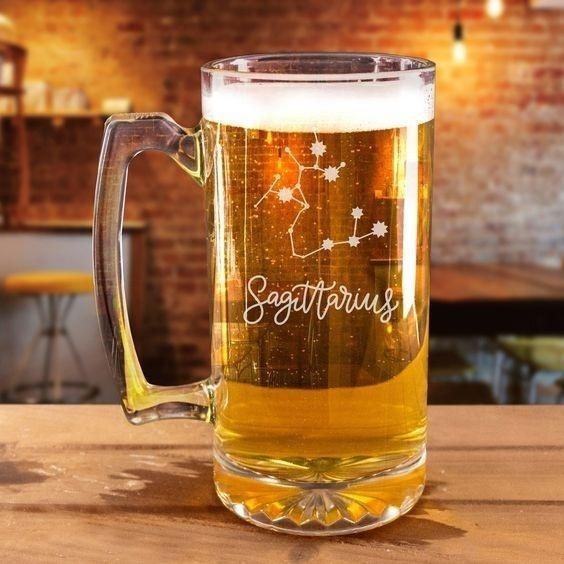glass-mug: (85, 42, 443, 542)
